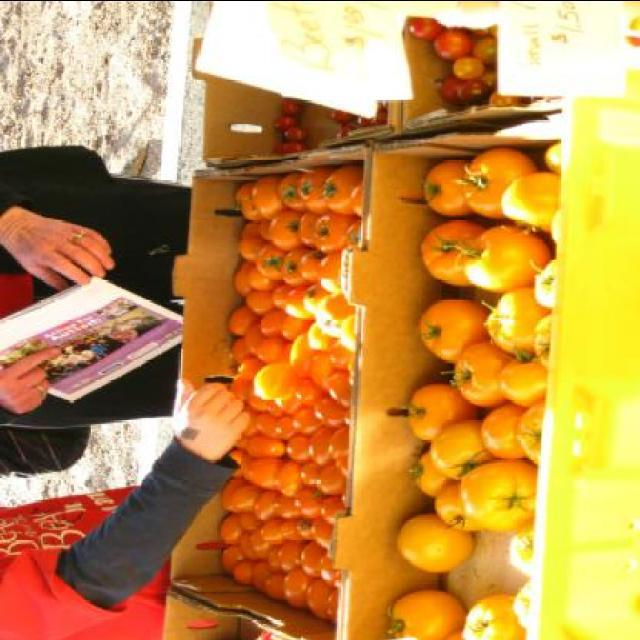Tomato: (397, 143, 565, 580), (221, 158, 365, 627), (408, 16, 528, 106), (383, 589, 468, 640), (460, 594, 523, 640), (514, 580, 536, 628), (324, 110, 358, 126), (283, 125, 311, 143), (356, 114, 387, 128), (278, 100, 304, 114), (280, 142, 308, 152), (338, 123, 358, 137), (282, 115, 296, 131), (448, 631, 460, 640)
